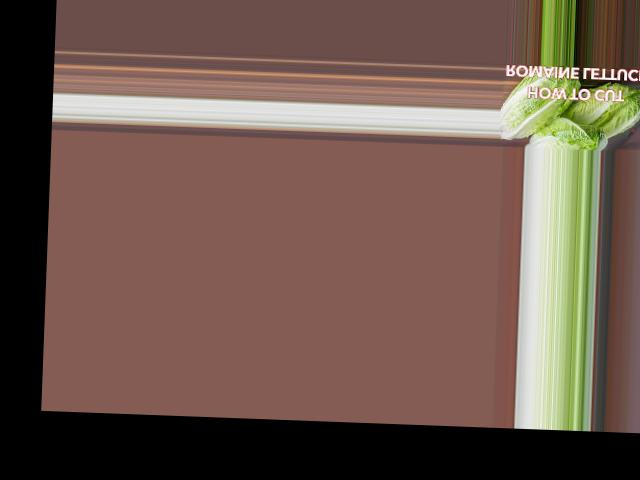lettuce: (556, 74, 640, 144)
